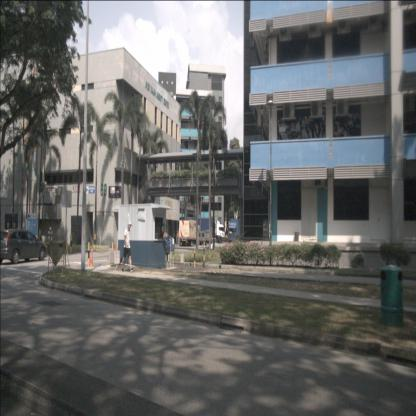human-pedestrian-adult: (121, 221, 135, 272), (176, 230, 179, 244)
movable_object-trafficcone: (89, 250, 94, 268)
vehicle-car: (0, 228, 47, 265), (157, 233, 175, 256)
vehicle-truck: (179, 219, 200, 246), (204, 220, 225, 244), (228, 222, 240, 242), (198, 231, 212, 245)
